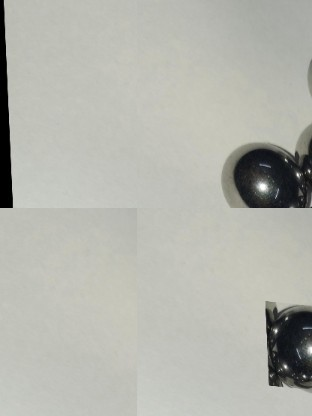ironball: (222, 135, 299, 209), (263, 296, 311, 388)
